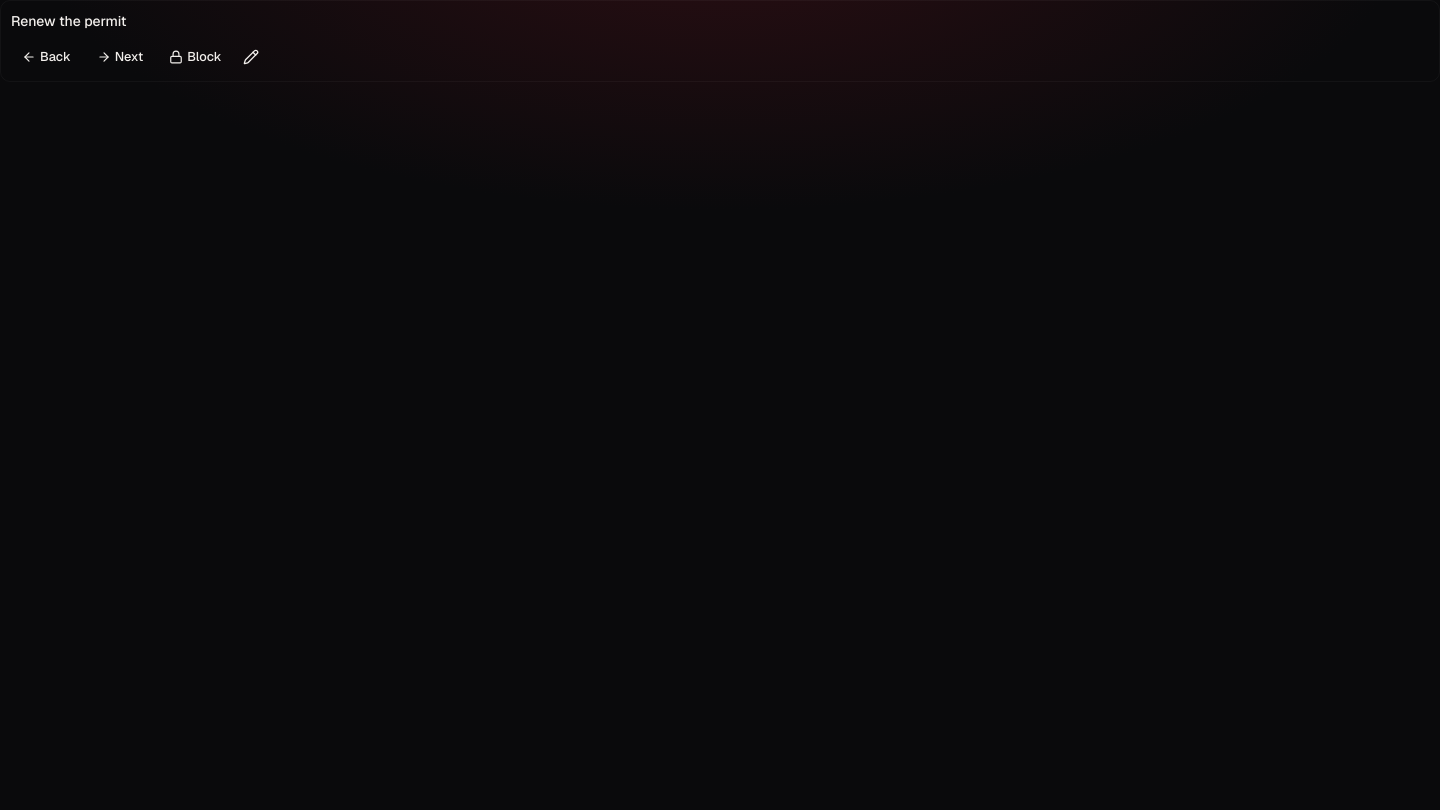
it: TaskCard — blocking with an optional reason › Block opens a dialog with an optional reason field, not an immediate block
Step 1. Click the button with aria-label "Mark blocked — waiting on something outside your control" → (195, 57), box top-left (158, 43), bottom-right (233, 71)
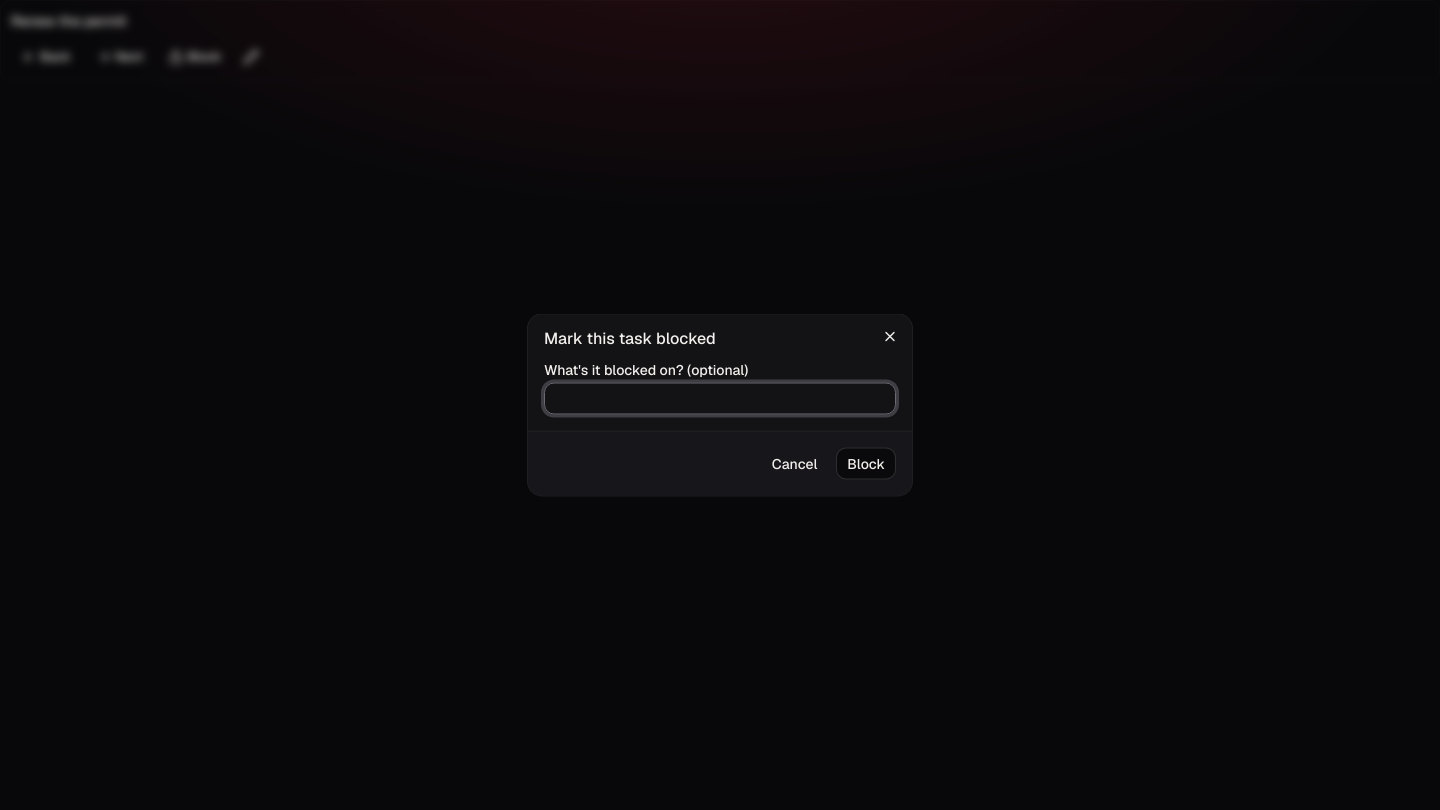
Result: the dialog is shown at top-left (528, 314), bottom-right (912, 496)
Result: the field labelled "What's it blocked on? (optional)" is shown at top-left (544, 382), bottom-right (896, 414)
